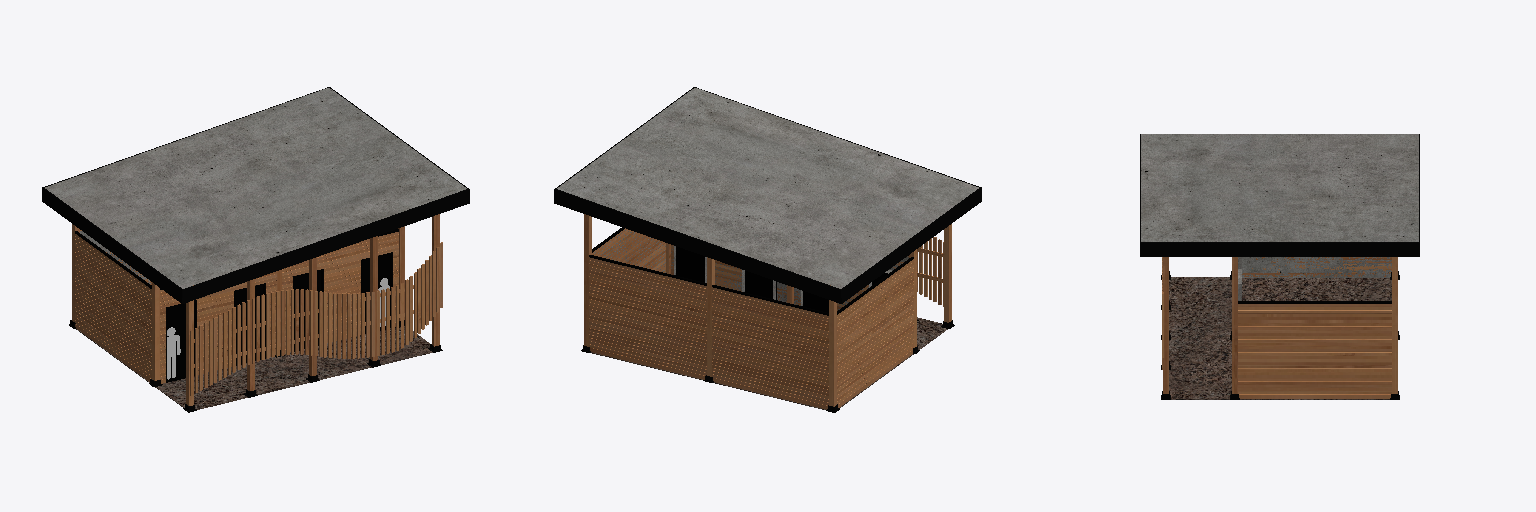
3 renders of one model, left to right at view 1: azimuth 30°, elevation 25°; view 2: azimuth 150°, elevation 25°; view 3: azimuth 270°, elevation 25°, orthographic.
Parts seen in each view (by area): view 1: OBJ; view 2: OBJ; view 3: OBJ.
Boxes of the visible parts, <box> form: OBJ: <box>42,87,469,412</box>; OBJ: <box>554,87,981,412</box>; OBJ: <box>1140,134,1419,399</box>.
Bounding box in the file's own units: 8373 × 4626 × 7073.
7 materials, 3 textured.